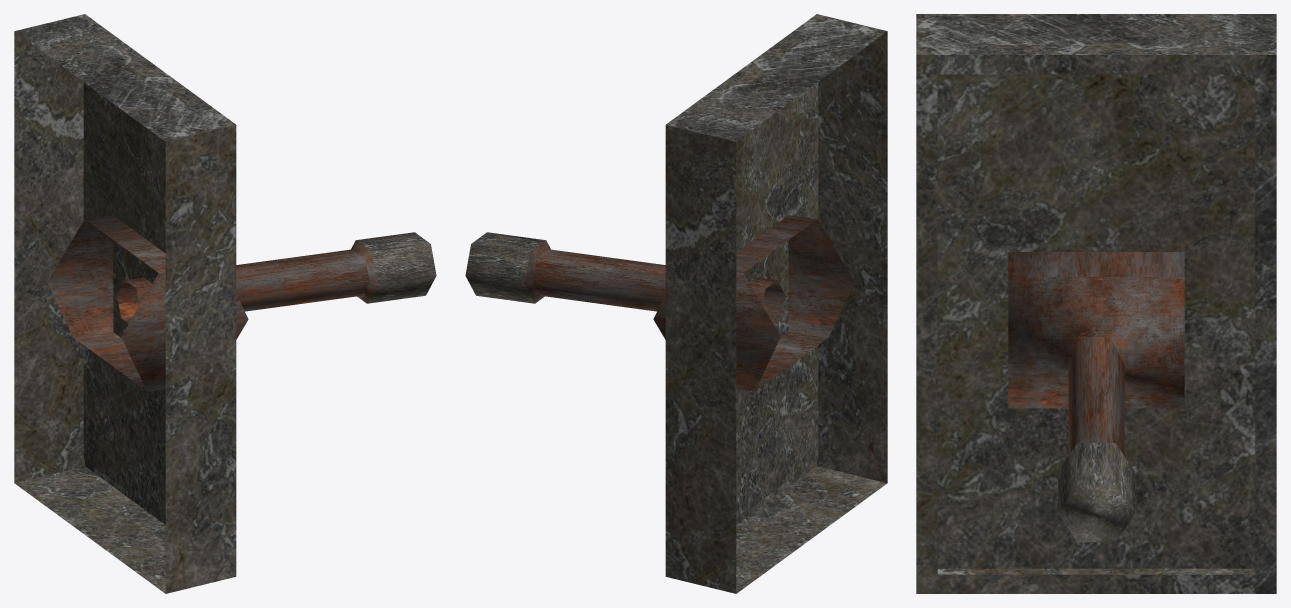
The model's file is lever_anim13.obj.
3 renders of one model, left to right at view 1: azimuth 30°, elevation 25°; view 2: azimuth 150°, elevation 25°; view 3: azimuth 270°, elevation 25°, orthographic. The views are drawn at different scales.
Parts seen in each view (by area): view 1: Cube, Cylinder; view 2: Cube, Cylinder; view 3: Cube, Cylinder.
Boxes of the visible parts, x1,y1,x2,y2 form: Cube: [14, 14, 236, 593]; Cylinder: [47, 215, 436, 391]; Cube: [665, 14, 887, 593]; Cylinder: [465, 215, 854, 391]; Cube: [916, 14, 1276, 593]; Cylinder: [1008, 252, 1184, 542].
Size of the model in its own units: 1.57 by 2 by 1.21.
2 materials, 2 textured.
